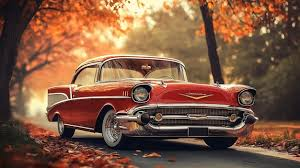car: (44, 51, 262, 146)
